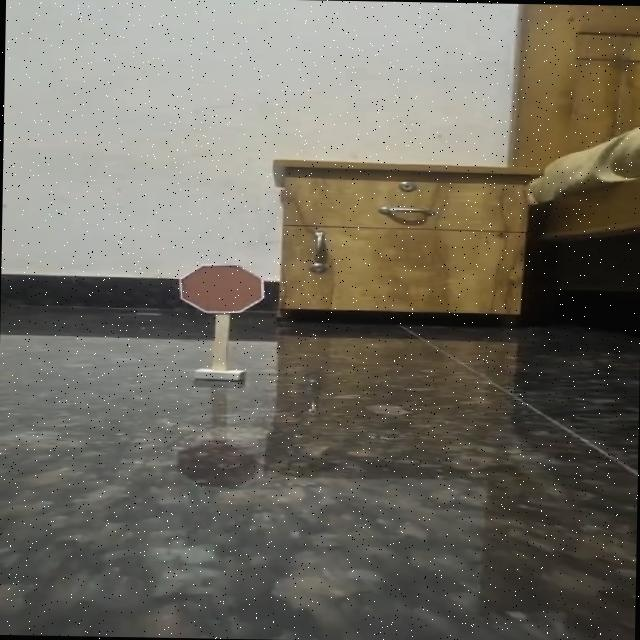Stop: (165, 256, 278, 322)
